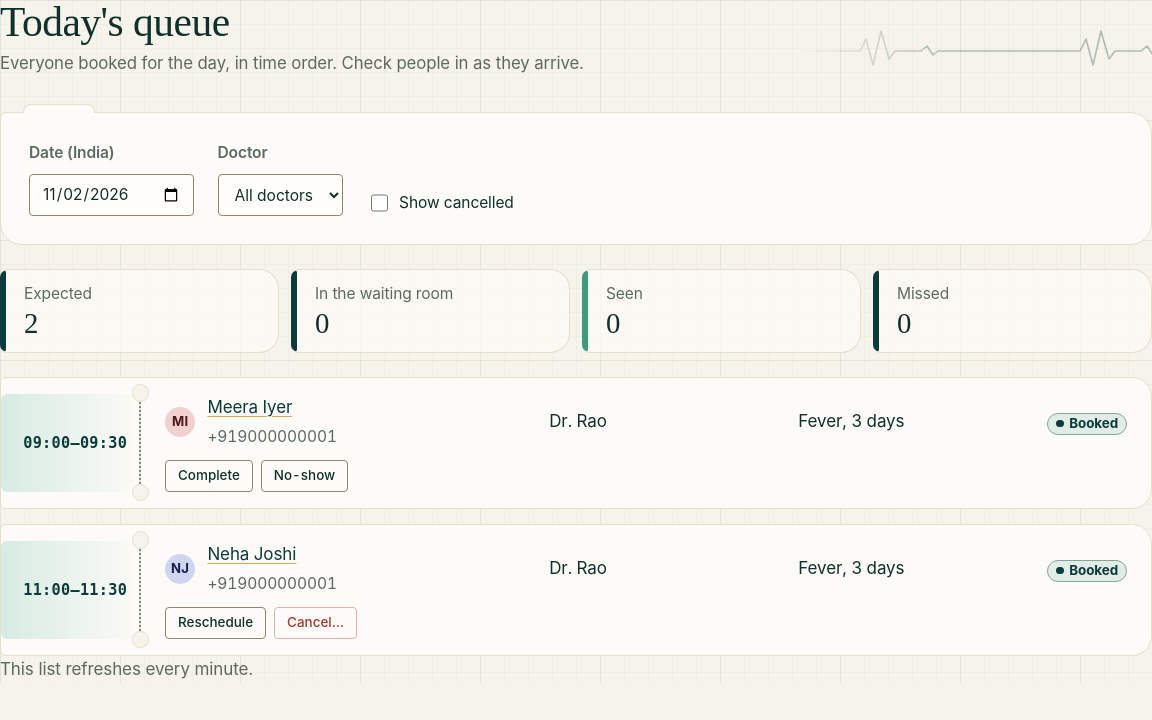
Scenario: today's queue › sends the version it showed, and says so when the appointment changed meanwhile
expect the link "Meera Iyer" is shown: met, box [207,397,292,417]
Step 1. Click the button "Complete" → (209,475), box [165,459,253,491]
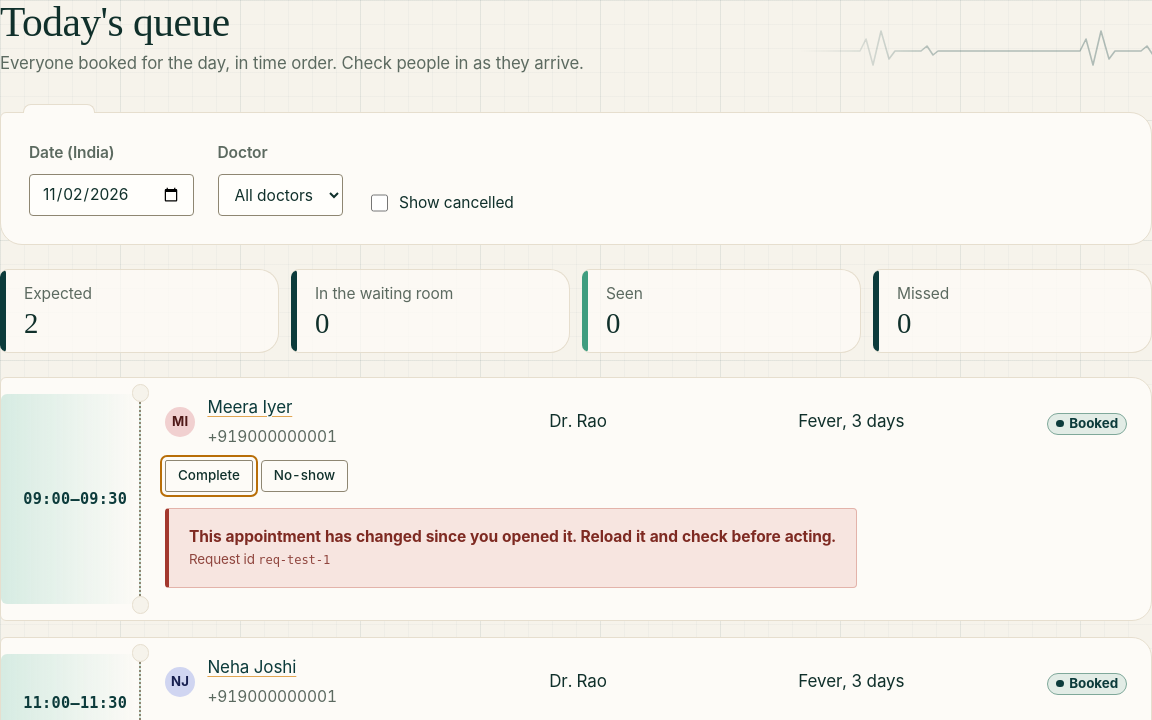
expect the text "has changed since you opened it" is shown: met, box [189,526,836,545]
